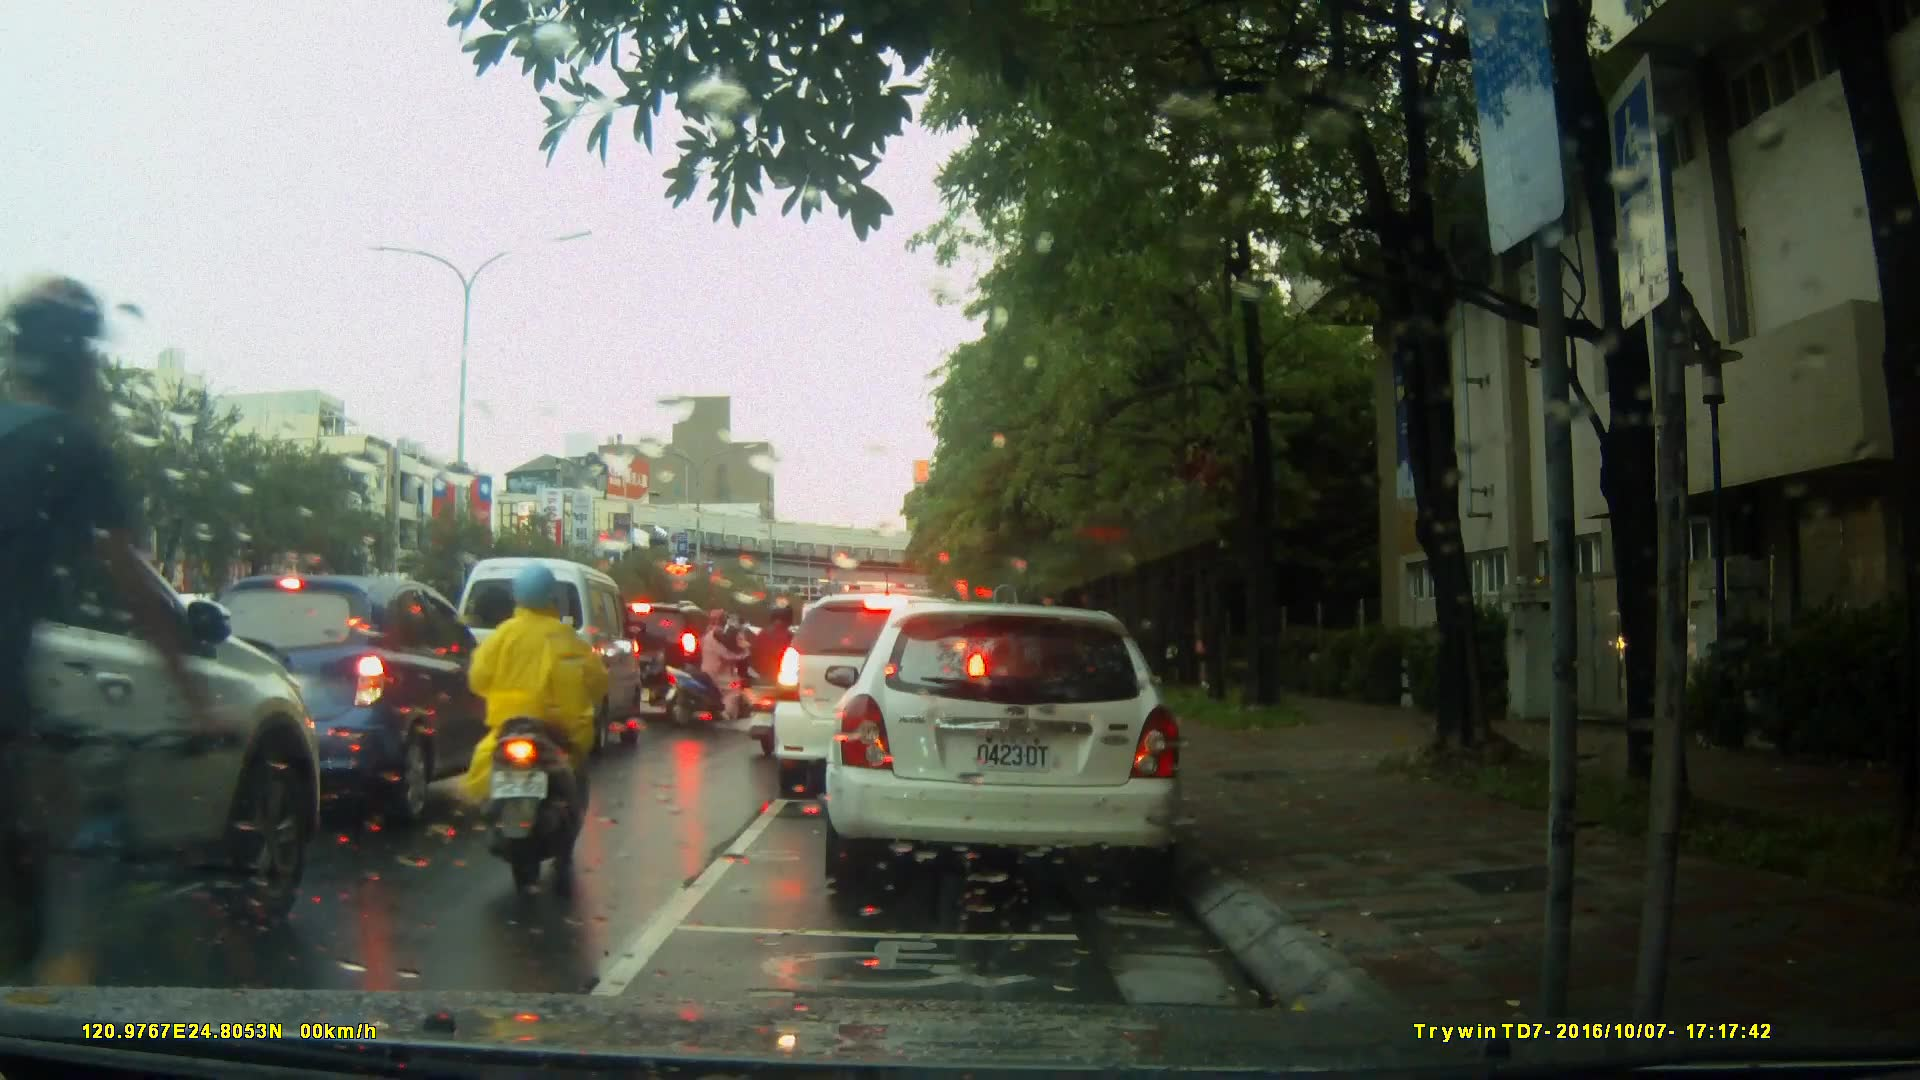rider: (1, 267, 235, 1080), (459, 568, 623, 887), (665, 604, 756, 720), (758, 603, 803, 732)
vehicle: (1, 438, 327, 987), (815, 593, 1204, 909), (177, 571, 529, 834), (770, 590, 995, 802), (443, 556, 651, 766), (596, 599, 739, 716)
